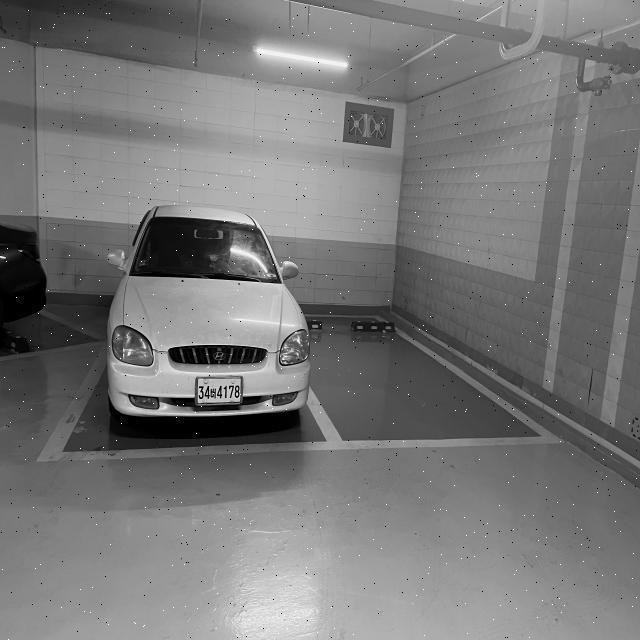Car: (83, 190, 323, 461)
Vacant: (321, 304, 464, 460)
